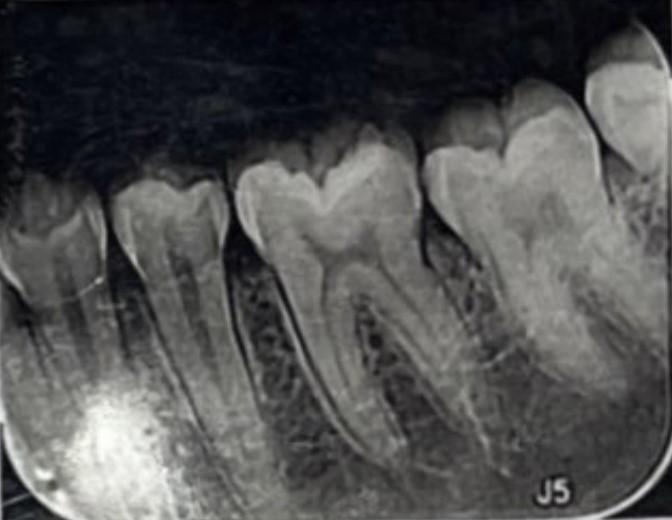individual-tooth-8tto: (211, 119, 497, 468), (417, 90, 671, 400), (100, 159, 292, 519), (0, 168, 176, 519)
